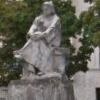Statue: (11, 2, 73, 73)
